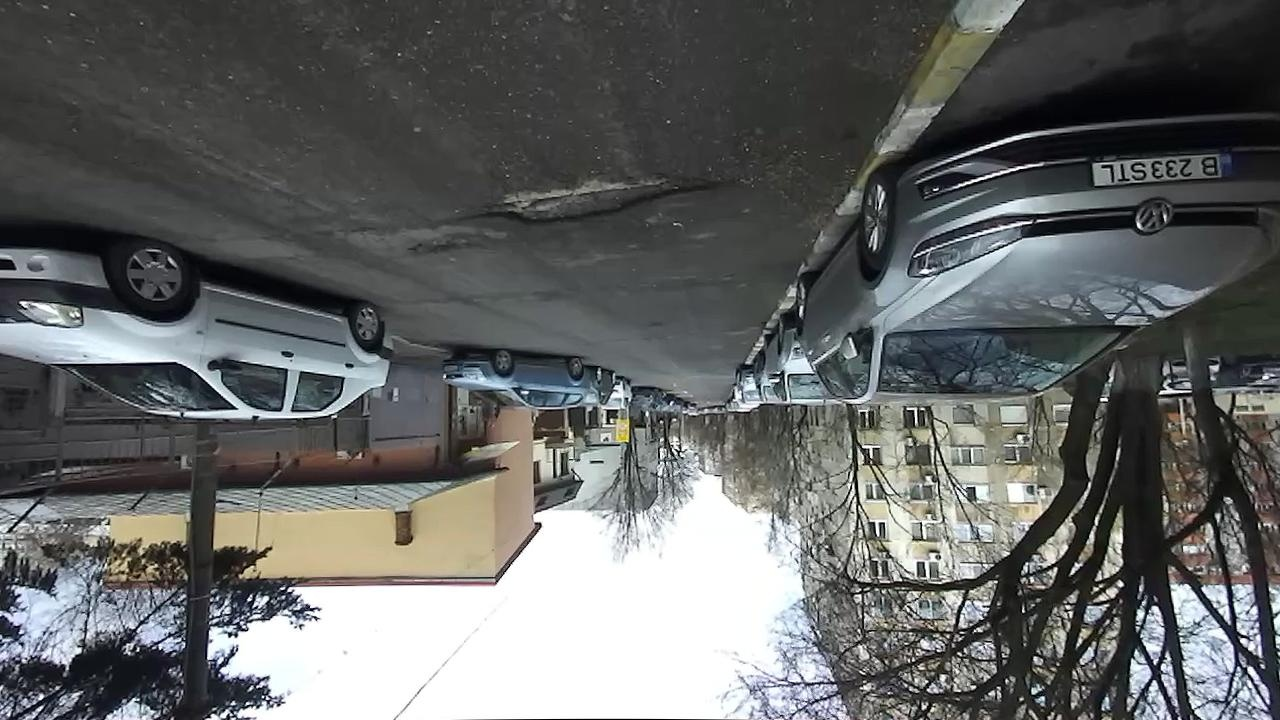pothole: (443, 170, 722, 228), (402, 238, 487, 262)
